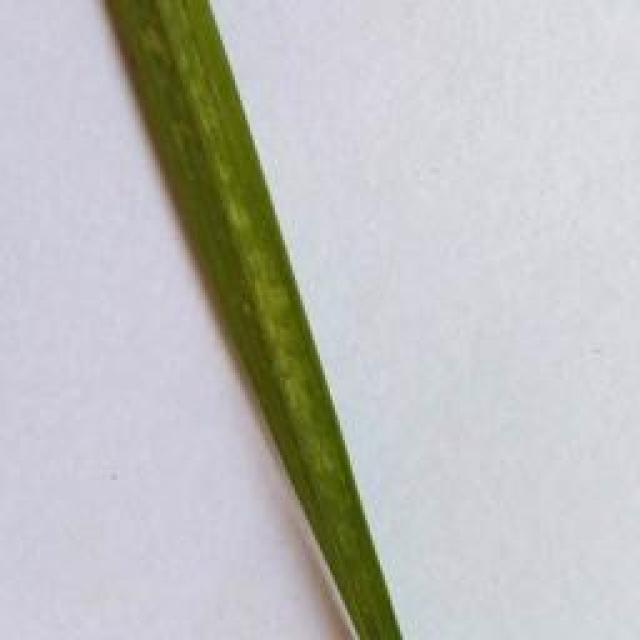Healthy-Plant: (104, 0, 403, 640)
